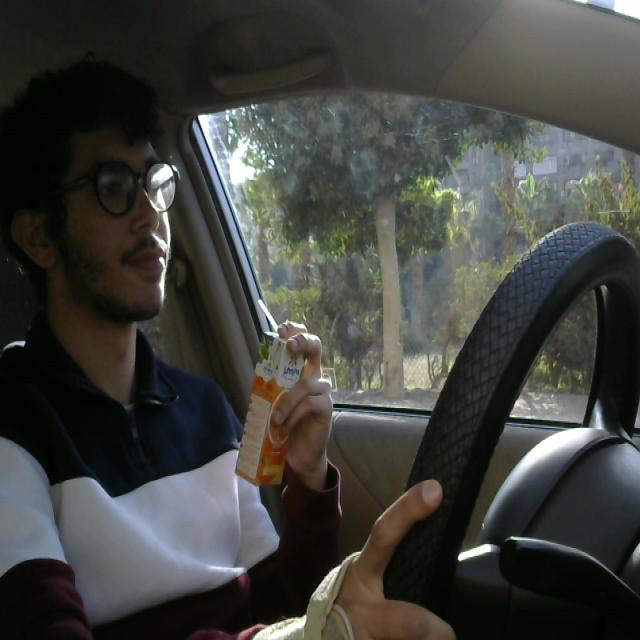drinking: (230, 289, 312, 502)
